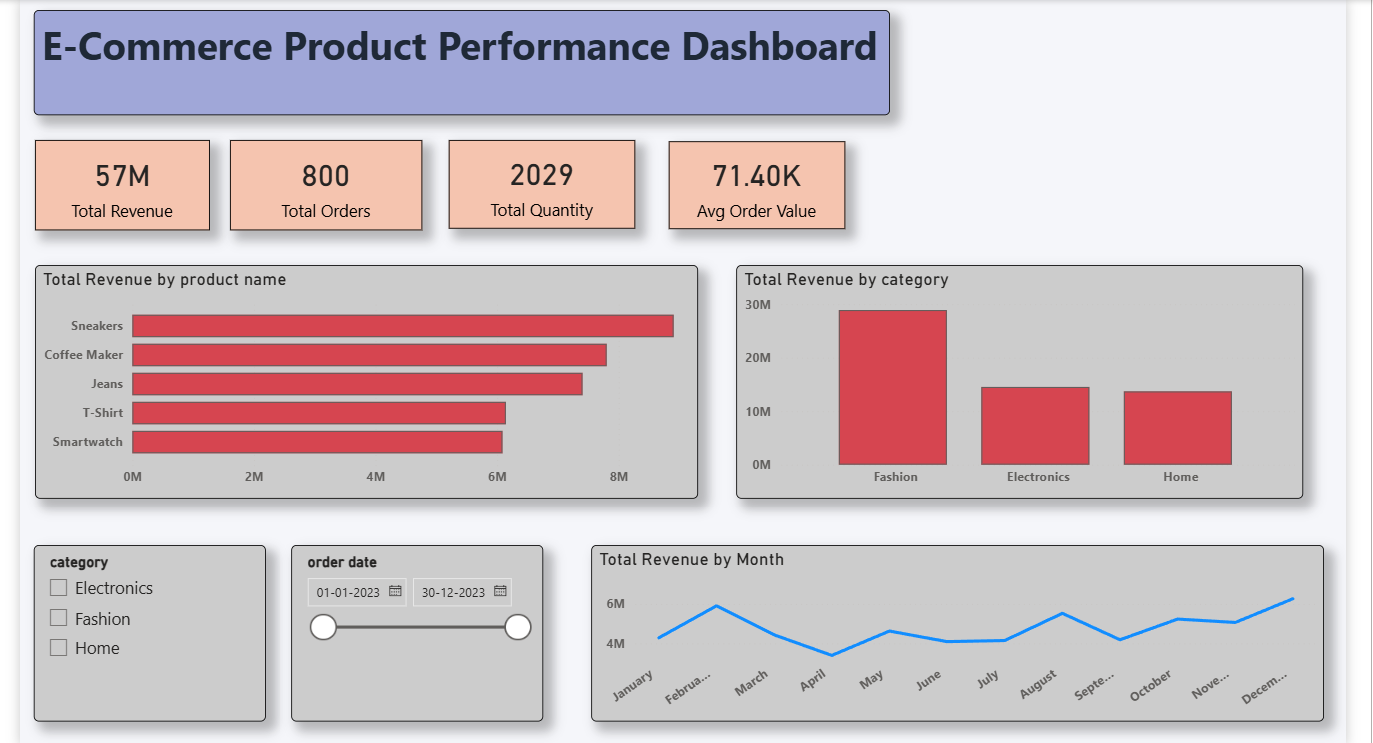

This screenshot's page, from the dashboard's own definition file:
{"tool":"powerbi","page":{"name":"PPDB","canvas":[1280,720],"ordinal":0},"visuals":[{"type":"card","fields":{"Values":["orders_powerbi_project.Total Revenue"]},"box":[14.3,135.7,168.6,87.1],"z":0},{"type":"card","fields":{"Values":["orders_powerbi_project.Total Quantity"]},"box":[414.3,135.7,180,85.7],"z":1000},{"type":"card","fields":{"Values":["orders_powerbi_project.Avg Order Value"]},"box":[626.2,136.2,170,85],"z":2000},{"type":"card","fields":{"Values":["orders_powerbi_project.Total Orders"]},"box":[202.9,135.7,185.7,87.1],"z":3000},{"type":"clusteredColumnChart","fields":{"Category":["products_powerbi_project.category"],"Y":["orders_powerbi_project.Total Revenue"]},"box":[691.4,255.7,547.1,225.7],"z":4000},{"type":"clusteredBarChart","fields":{"Category":["products_powerbi_project.product_name"],"Y":["orders_powerbi_project.Total Revenue"]},"box":[14.3,255.7,640,225.7],"z":5000},{"type":"lineChart","fields":{"Category":["orders_powerbi_project.order_date.Variation.Date Hierarchy.Month"],"Y":["orders_powerbi_project.Total Revenue"]},"box":[551.2,526.2,707.5,170],"z":6000},{"type":"slicer","fields":{"Values":["products_powerbi_project.category"]},"box":[13.8,526.2,223.8,170],"z":7000},{"type":"slicer","fields":{"Values":["orders_powerbi_project.order_date"]},"box":[261.4,525.7,242.9,170],"z":8000},{"type":"textbox","box":[13.3,9.7,826.4,101.3],"z":9000}]}

Visuals, with their boxes in screenshot pixels (x1, y1, x2, y2):
card - orders_powerbi_project.Total Revenue: x1=29, y1=133, x2=207, y2=225
card - orders_powerbi_project.Total Quantity: x1=452, y1=133, x2=642, y2=223
card - orders_powerbi_project.Avg Order Value: x1=676, y1=133, x2=855, y2=223
card - orders_powerbi_project.Total Orders: x1=229, y1=133, x2=425, y2=225
clusteredColumnChart - products_powerbi_project.category x orders_powerbi_project.Total Revenue: x1=744, y1=259, x2=1322, y2=498
clusteredBarChart - products_powerbi_project.product_name x orders_powerbi_project.Total Revenue: x1=29, y1=259, x2=705, y2=498
lineChart - orders_powerbi_project.order_date.Variation.Date Hierarchy.Month x orders_powerbi_project.Total Revenue: x1=596, y1=545, x2=1344, y2=725
slicer - products_powerbi_project.category: x1=29, y1=545, x2=265, y2=725
slicer - orders_powerbi_project.order_date: x1=290, y1=544, x2=547, y2=724
textbox: x1=28, y1=0, x2=901, y2=106
